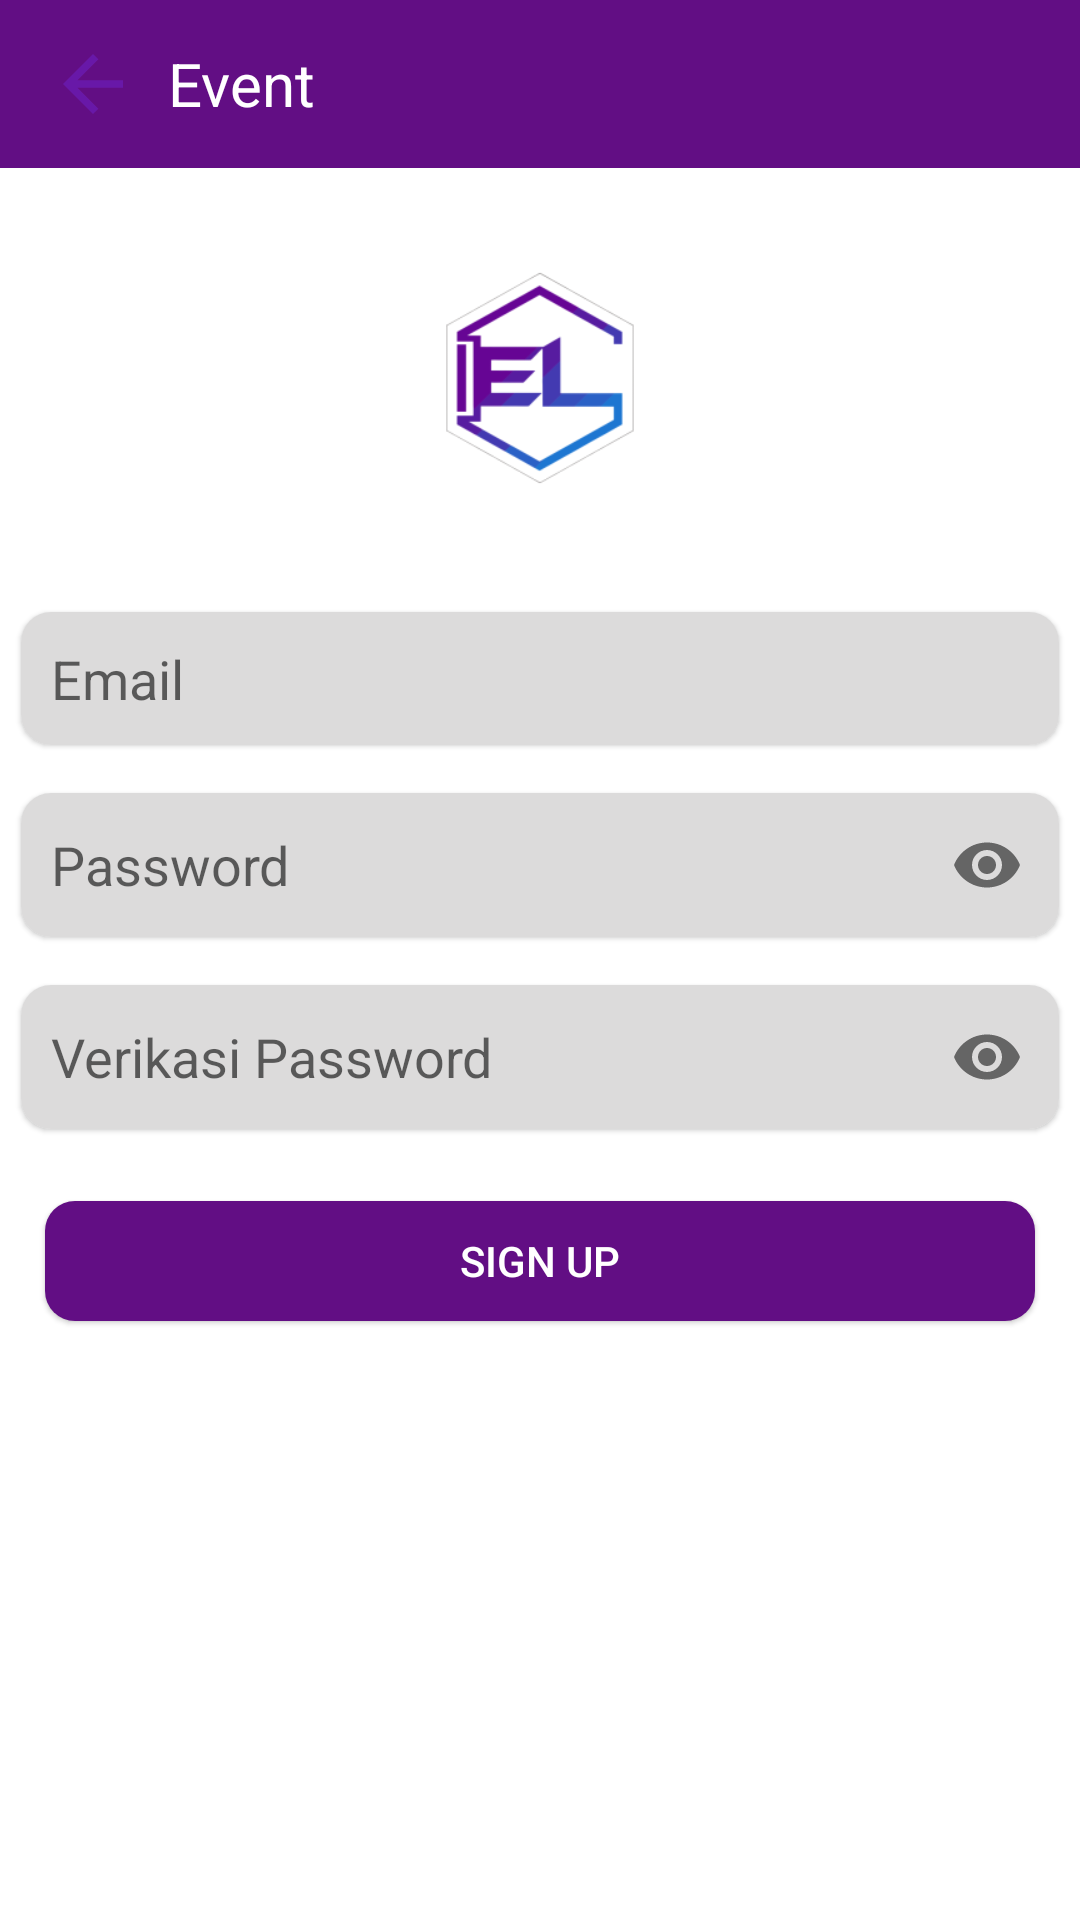

Screen size 1080*1920. Icon name, then its box in pixels as box=[x1, y1, x2, y2]:
arrow back: box=[64, 55, 123, 113]
